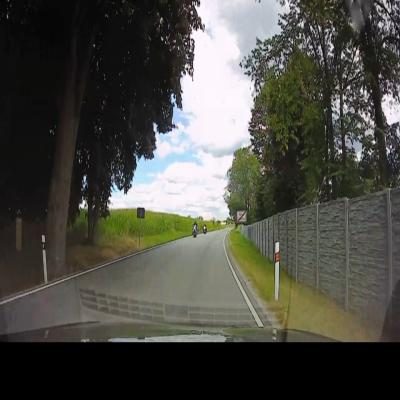clear-road: (75, 229, 247, 308)
